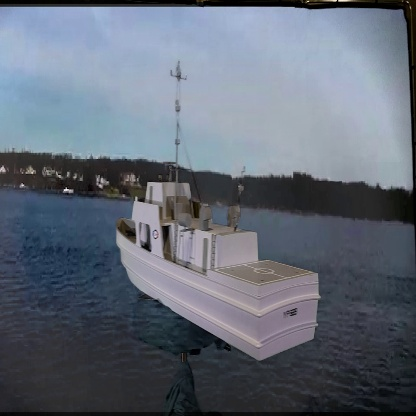YP689: (117, 61, 320, 364)
